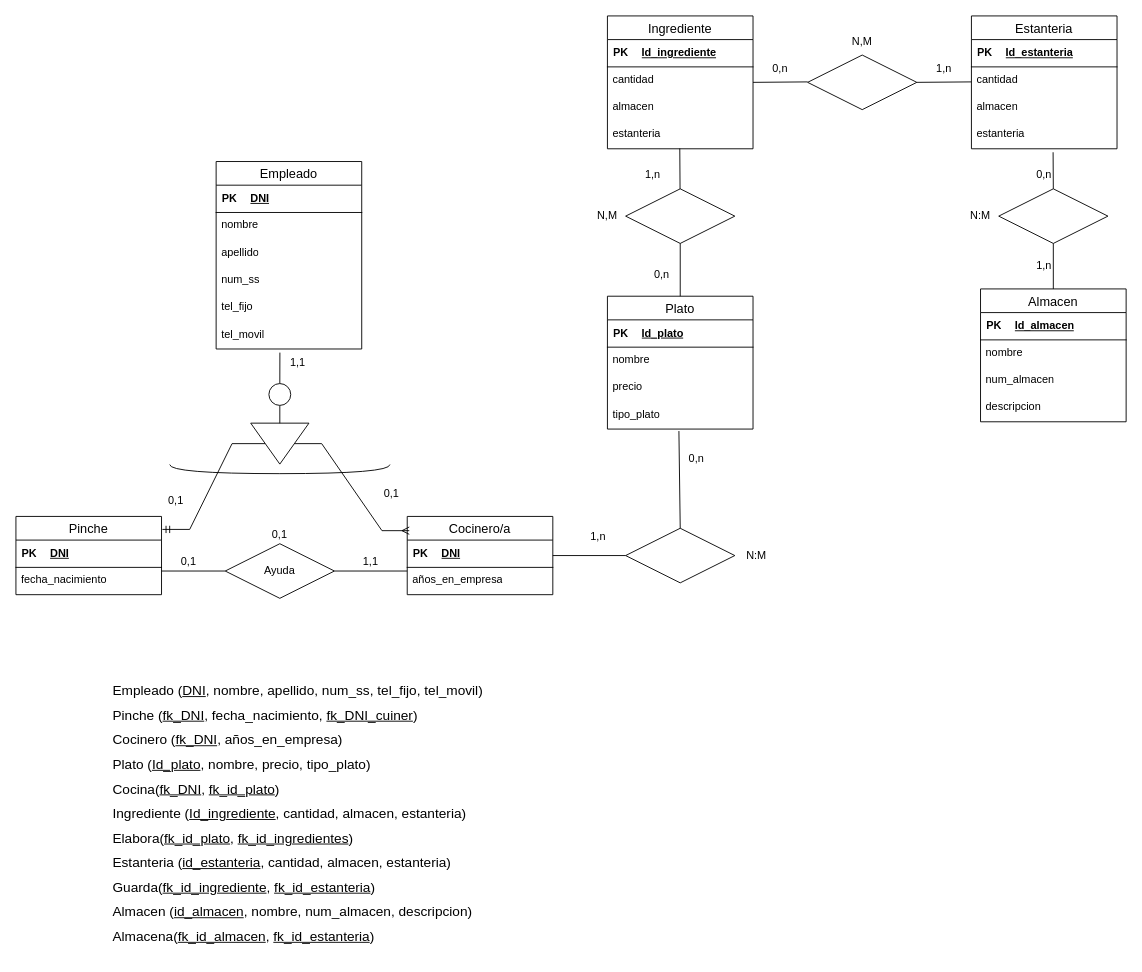
Image size: 1142x972. Some labels were removed from this diagram. The centre of each missing label's shape, as x and y in pixels:
"Almacena" goes at point 1053,215.
"Cocina" goes at point 680,555.
"Elabora" goes at point 680,215.
"Guarda" goes at point 862,82.
